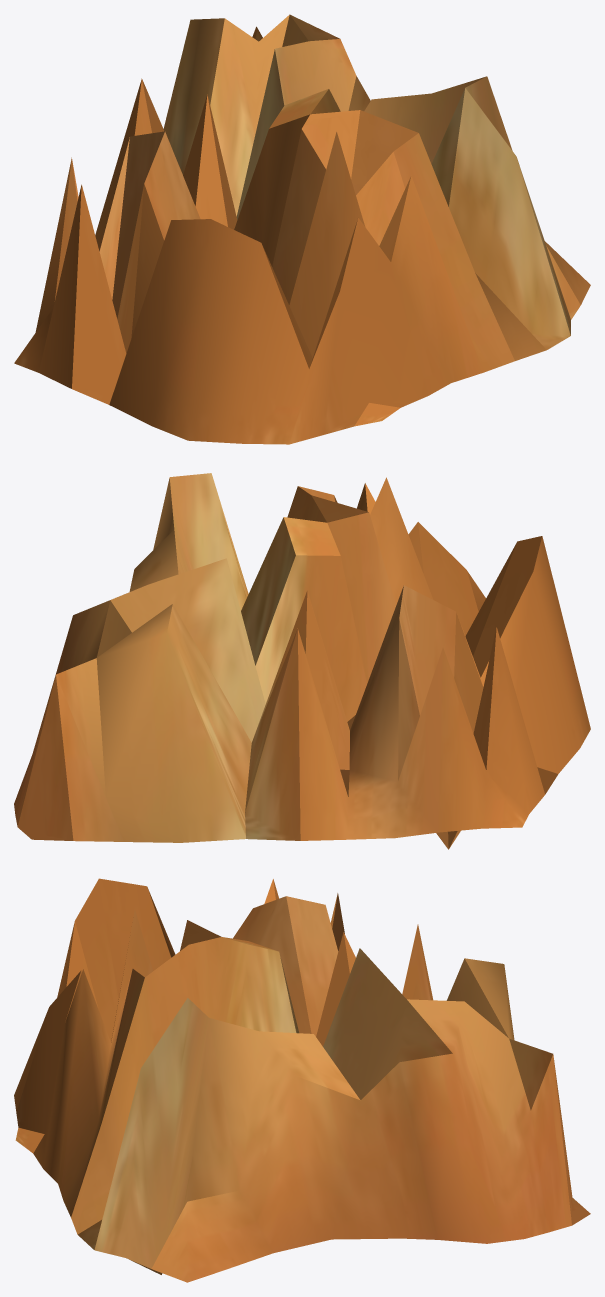
The model's file is stalagmite_006.fbx.
The picture shows the model from 3 angles, top to bottom: view 1: azimuth 30°, elevation 25°; view 2: azimuth 150°, elevation 25°; view 3: azimuth 270°, elevation 25°; orthographic projection. The views are drawn at different scales.
Parts seen in each view (by area): view 1: stalagmite.006; view 2: stalagmite.006; view 3: stalagmite.006.
Boxes of the visible parts, x1=… form: stalagmite.006: x1=14, y1=14, x2=590, y2=444; stalagmite.006: x1=14, y1=473, x2=590, y2=849; stalagmite.006: x1=14, y1=878, x2=590, y2=1282.
Bounding box in the file's own units: 224 × 121 × 222.
